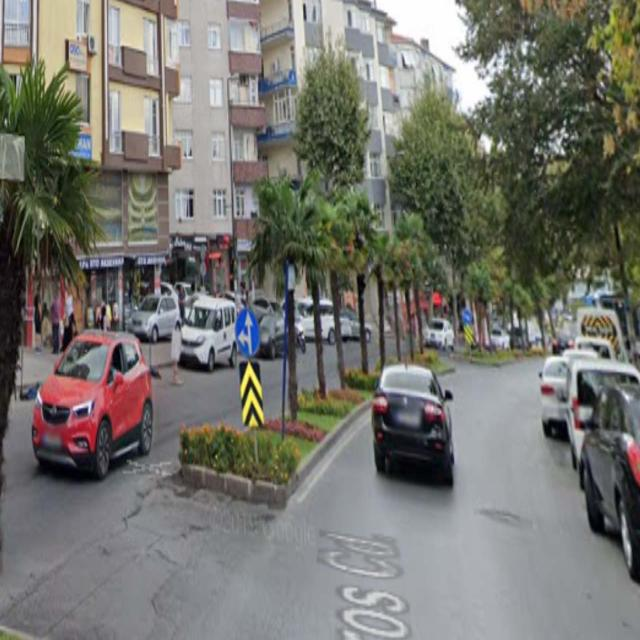ilerisol: (235, 307, 259, 358)
